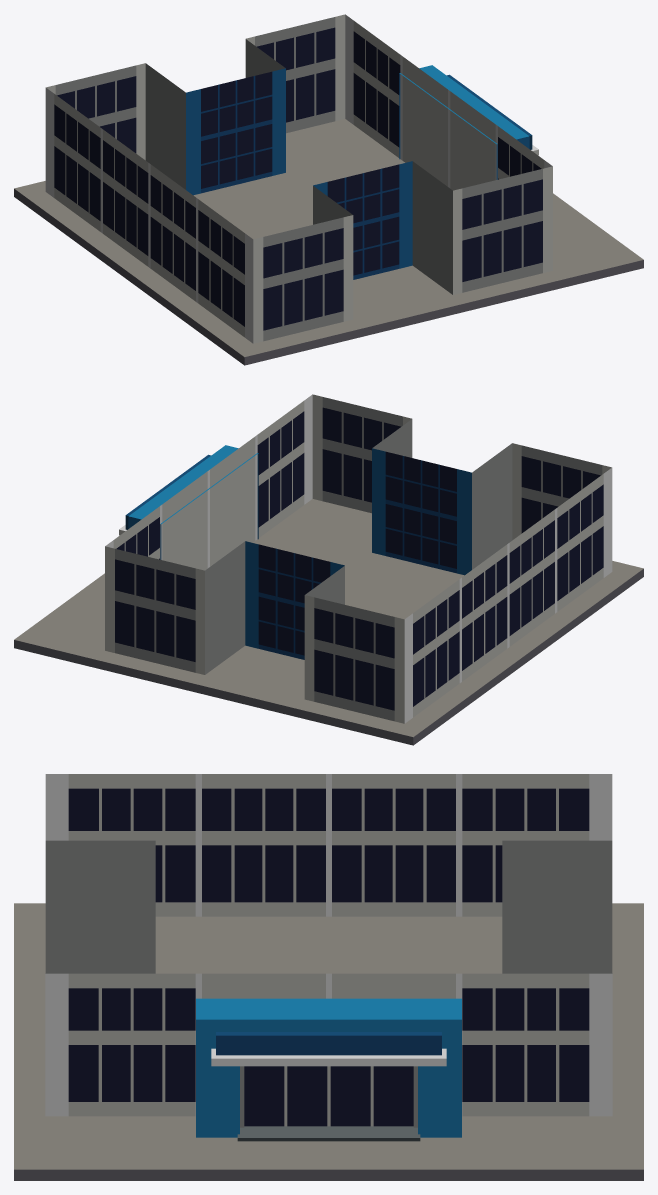
File: TB_CITY_Skysc_T_Bottom_Blue.FBX
3 views of the same model, one above another, from view 1: azimuth 30°, elevation 25°; view 2: azimuth 150°, elevation 25°; view 3: azimuth 270°, elevation 25° (orthographic). The views are drawn at different scales.
Parts seen in each view (by area): view 1: TB_CITY_Skysc_T_Bottom_Blue; view 2: TB_CITY_Skysc_T_Bottom_Blue; view 3: TB_CITY_Skysc_T_Bottom_Blue.
Boxes of the visible parts, x1=… form: TB_CITY_Skysc_T_Bottom_Blue: x1=14, y1=14, x2=643, y2=365; TB_CITY_Skysc_T_Bottom_Blue: x1=14, y1=394, x2=643, y2=745; TB_CITY_Skysc_T_Bottom_Blue: x1=14, y1=774, x2=643, y2=1180.
Size of the model in its own units: 40 by 10.8 by 40.
